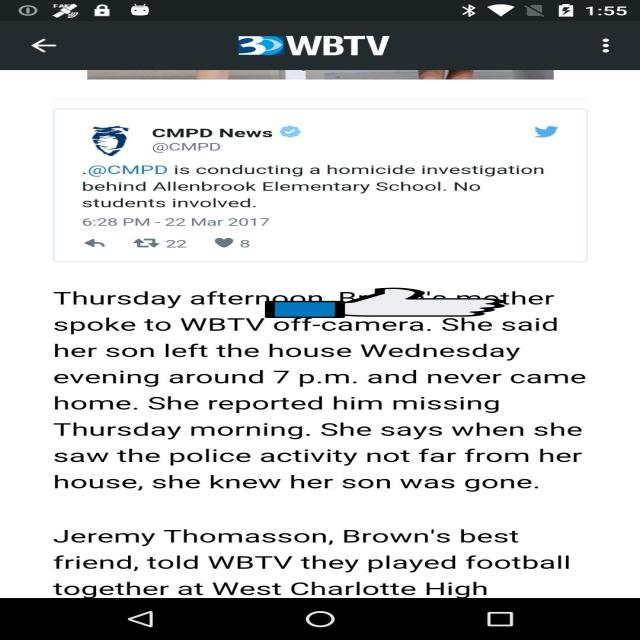privacy zuckering: (265, 287, 505, 319)
